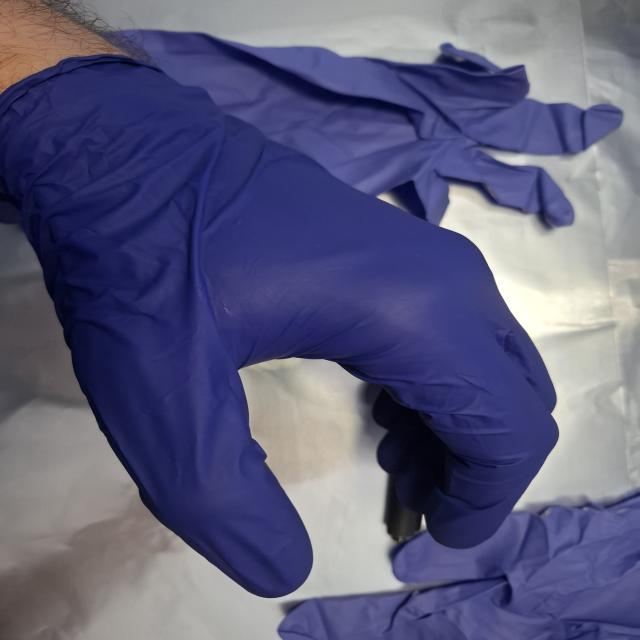glove_on: (0, 53, 565, 602)
